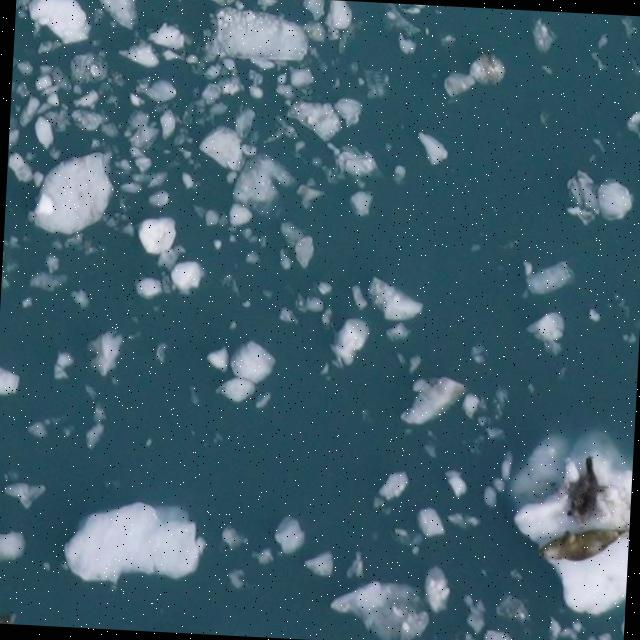seal: (540, 527, 629, 564), (563, 455, 610, 525)
